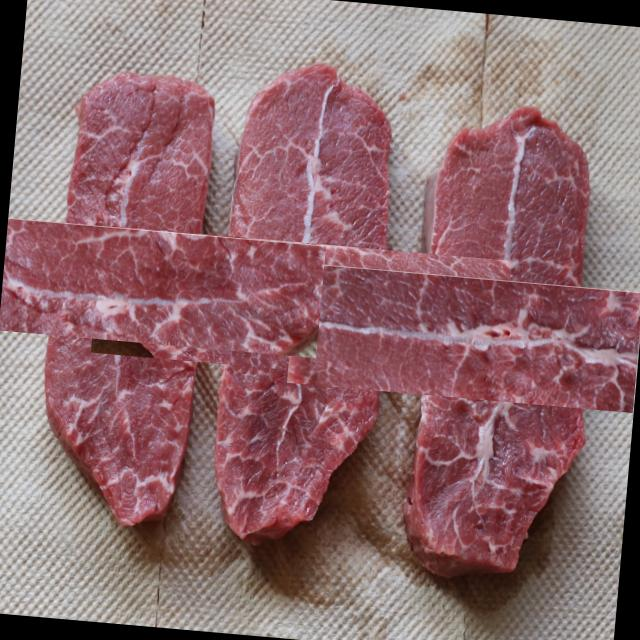beef: (154, 160, 446, 452), (354, 195, 640, 487), (0, 152, 265, 419)
